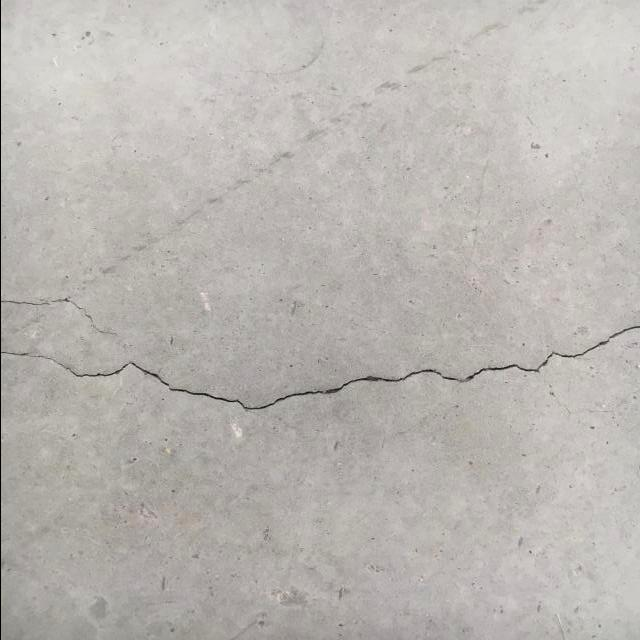SurfaceCrack: (1, 0, 639, 298)
